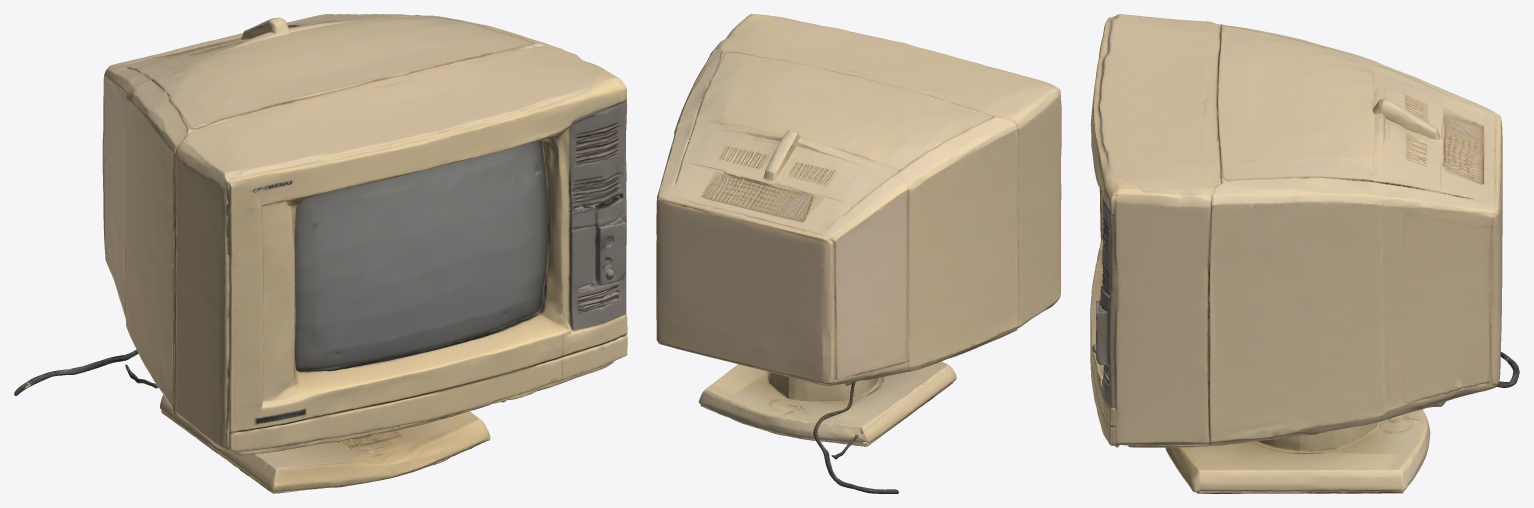
The model's file is screen.glb.
3 renders of one model, left to right at view 1: azimuth 30°, elevation 25°; view 2: azimuth 150°, elevation 25°; view 3: azimuth 270°, elevation 25°, orthographic. The views are drawn at different scales.
Size of the model in its own units: 1.97 by 1.77 by 1.97.
Materials: 1 (1 with a texture image).
